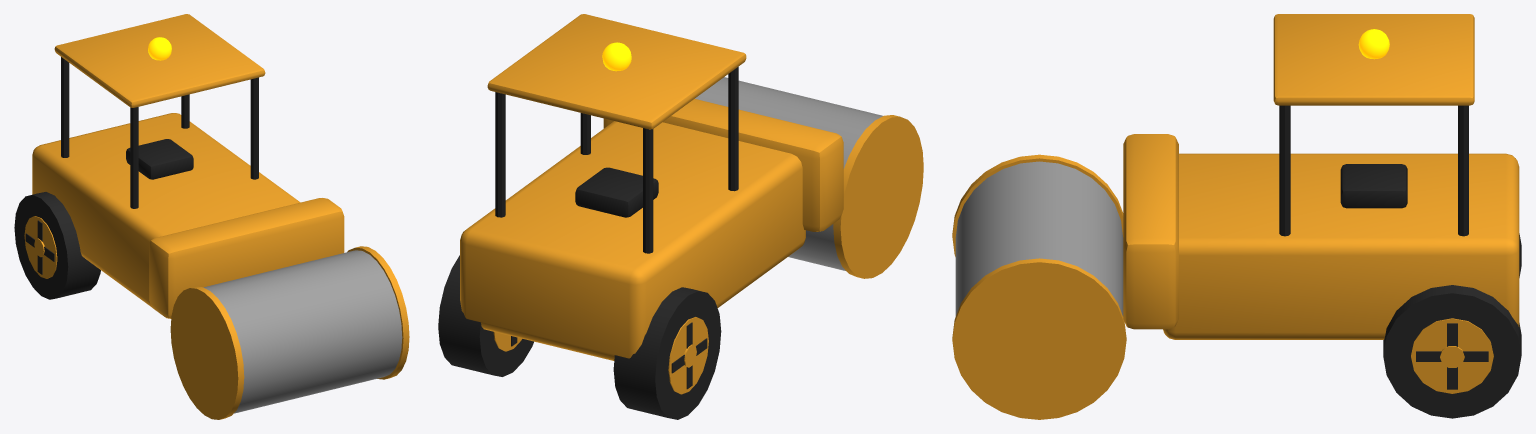
Rendered from multiplayer_dozer.glb.
3 renders of one model, left to right at view 1: azimuth 30°, elevation 25°; view 2: azimuth 150°, elevation 25°; view 3: azimuth 270°, elevation 25°, orthographic. The views are drawn at different scales.
Parts seen in each view (by area): view 1: Dozer_body, Wheel_F, Wheel_RR.002; view 2: Dozer_body, Wheel_F, Wheel_RR.002, Wheel_RL.002; view 3: Dozer_body, Wheel_F, Wheel_RL.002.
Part boxes in pixels (left/top/right/bottom): Dozer_body: left=32, top=14, right=344, bottom=318; Wheel_F: left=170, top=246, right=409, bottom=419; Wheel_RR.002: left=14, top=192, right=100, bottom=299; Dozer_body: left=460, top=14, right=843, bottom=360; Wheel_F: left=695, top=77, right=923, bottom=278; Wheel_RR.002: left=613, top=287, right=721, bottom=419; Wheel_RL.002: left=438, top=255, right=533, bottom=376; Dozer_body: left=1123, top=14, right=1519, bottom=339; Wheel_F: left=952, top=154, right=1126, bottom=419; Wheel_RL.002: left=1383, top=285, right=1521, bottom=418.
Bounding box in the file's own units: 2.41 × 3.32 × 5.1.
